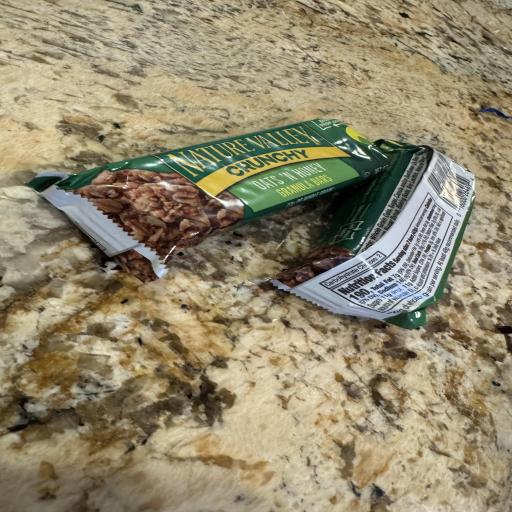granola: (28, 119, 390, 281), (273, 141, 474, 328)
